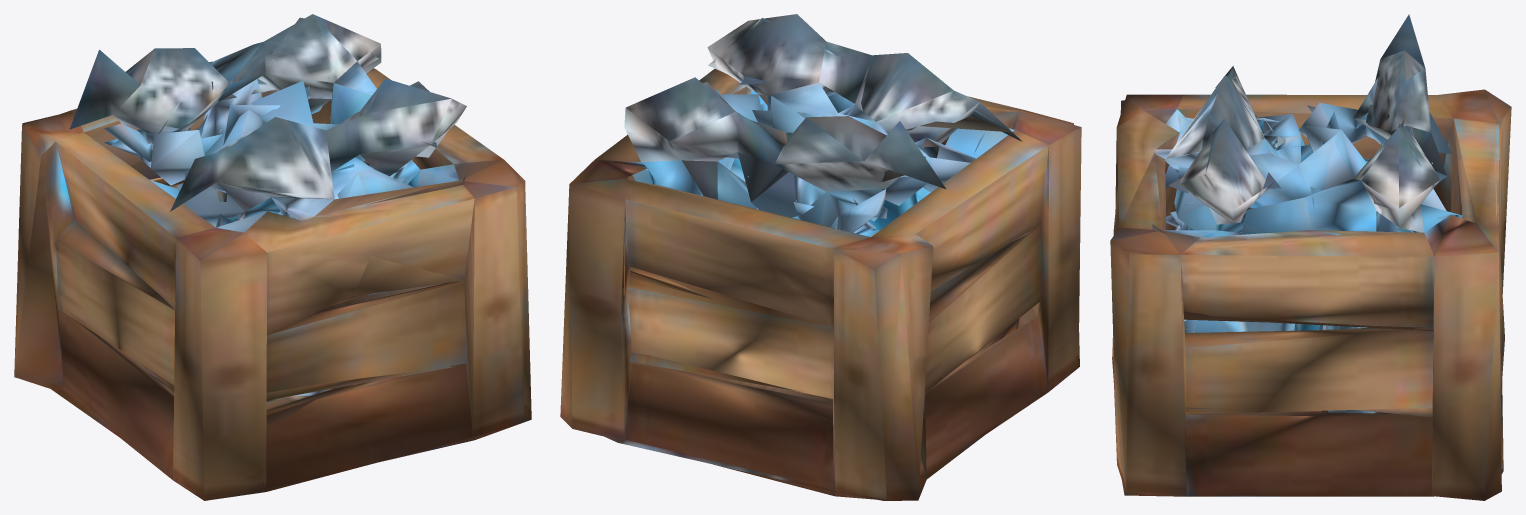
The model's file is lg-fish-crate.glb.
The picture shows the model from 3 angles, left to right: view 1: azimuth 30°, elevation 25°; view 2: azimuth 150°, elevation 25°; view 3: azimuth 270°, elevation 25°; orthographic projection.
Parts seen in each view (by area): view 1: geometry_0; view 2: geometry_0; view 3: geometry_0.
Part boxes in pixels (left/top/right/bottom): geometry_0: left=14, top=14, right=531, bottom=500; geometry_0: left=560, top=14, right=1081, bottom=500; geometry_0: left=1110, top=14, right=1511, bottom=500.
Size of the model in its own units: 1 by 0.9419 by 0.9869.
1 material, 1 textured.
